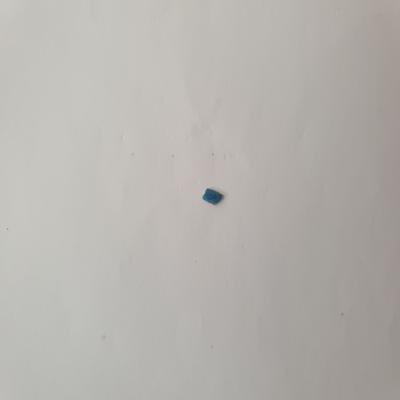plastic: (196, 185, 230, 210)
